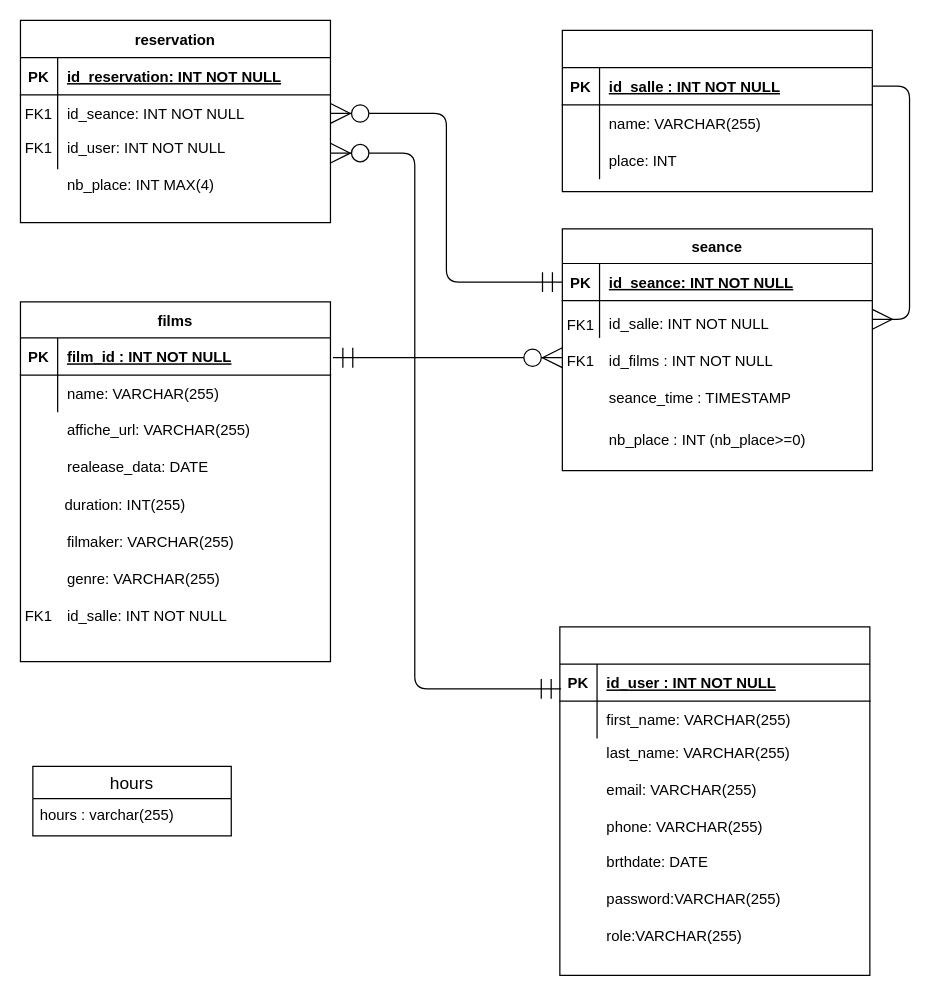
Image size: 930x996. Some labels were removed from this diagram. Here are the shapes that lost their labels. From the top down, the box of each, then its label:
(561, 29, 872, 192): salles
(559, 626, 870, 975): users
